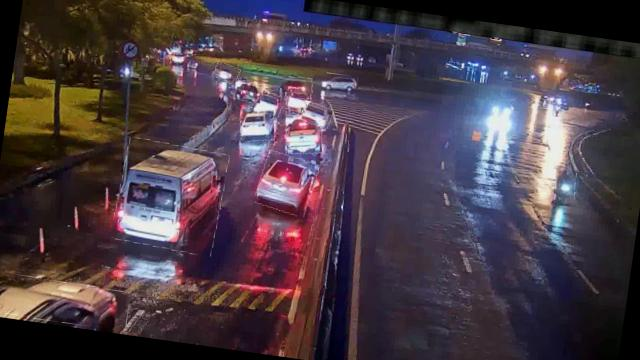Bike: (552, 166, 577, 206)
Bus: (110, 136, 228, 255)
Car: (0, 272, 129, 330), (254, 151, 318, 216), (282, 111, 324, 157), (236, 103, 278, 144), (278, 82, 312, 112), (252, 89, 284, 117), (300, 102, 334, 128), (320, 72, 358, 94), (279, 74, 312, 99), (234, 78, 264, 103), (212, 62, 240, 84)
